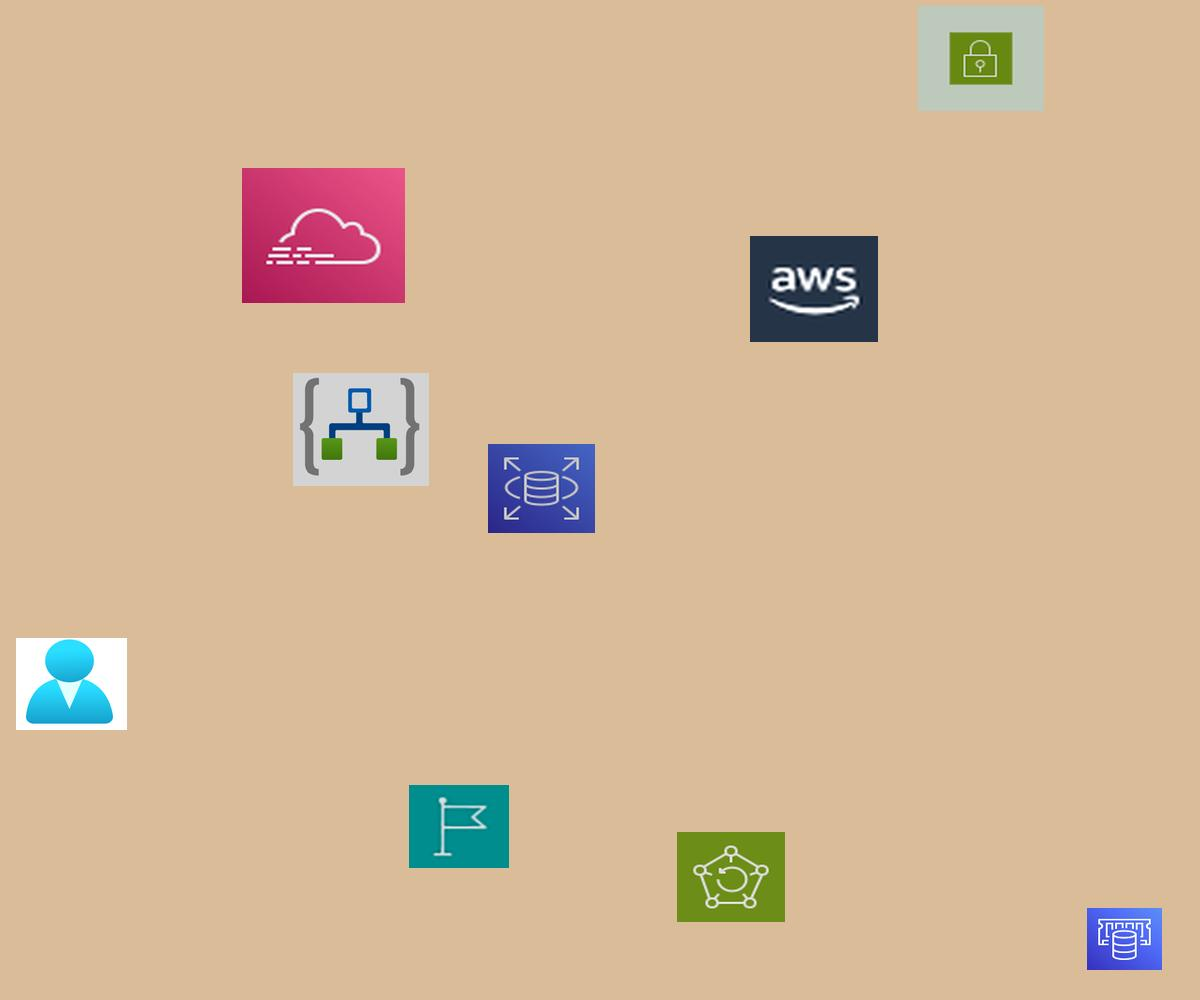AWS-Backup: (677, 832, 785, 922)
AWS-Cloud-logo: (750, 236, 878, 342)
AWS-CloudTrail: (242, 168, 405, 303)
AWS-ElastiCache: (1087, 908, 1162, 970)
AWS-Public-subnet: (918, 6, 1044, 111)
AWS-RDS: (488, 444, 595, 533)
AWS-Region: (409, 785, 509, 868)
Azure_integration-204-Logic-Apps: (293, 373, 429, 486)
Azure_users: (16, 638, 127, 730)
